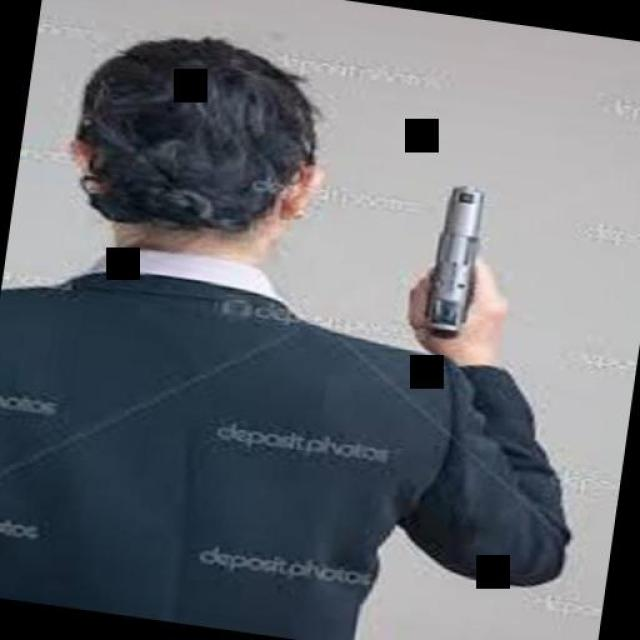gun: (421, 182, 490, 338)
